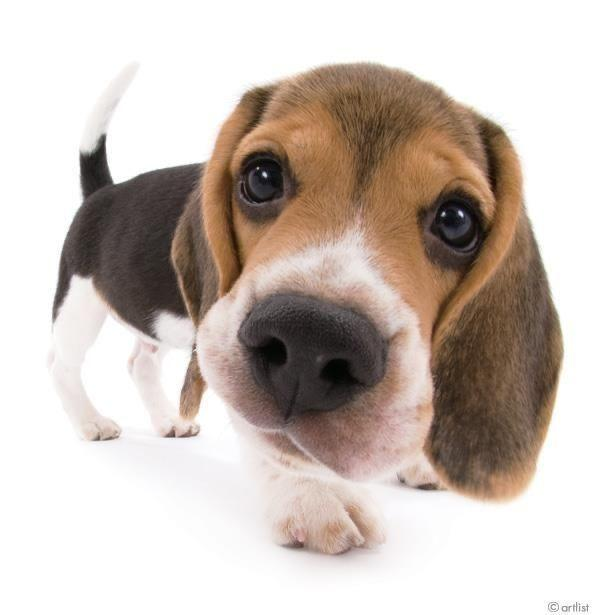puppy-dog: (46, 55, 567, 556)
